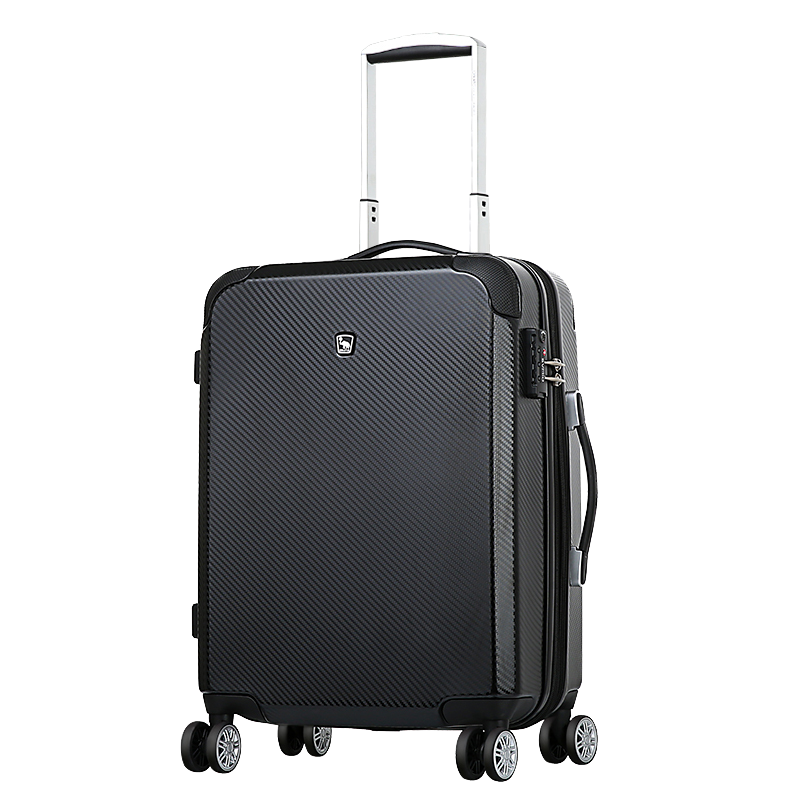box: (199, 256, 582, 729)
handle: (564, 390, 598, 587), (335, 240, 492, 259)
lock: (520, 327, 567, 400)
wheel: (455, 729, 519, 782), (180, 721, 242, 774), (538, 714, 599, 765), (277, 723, 332, 757)
